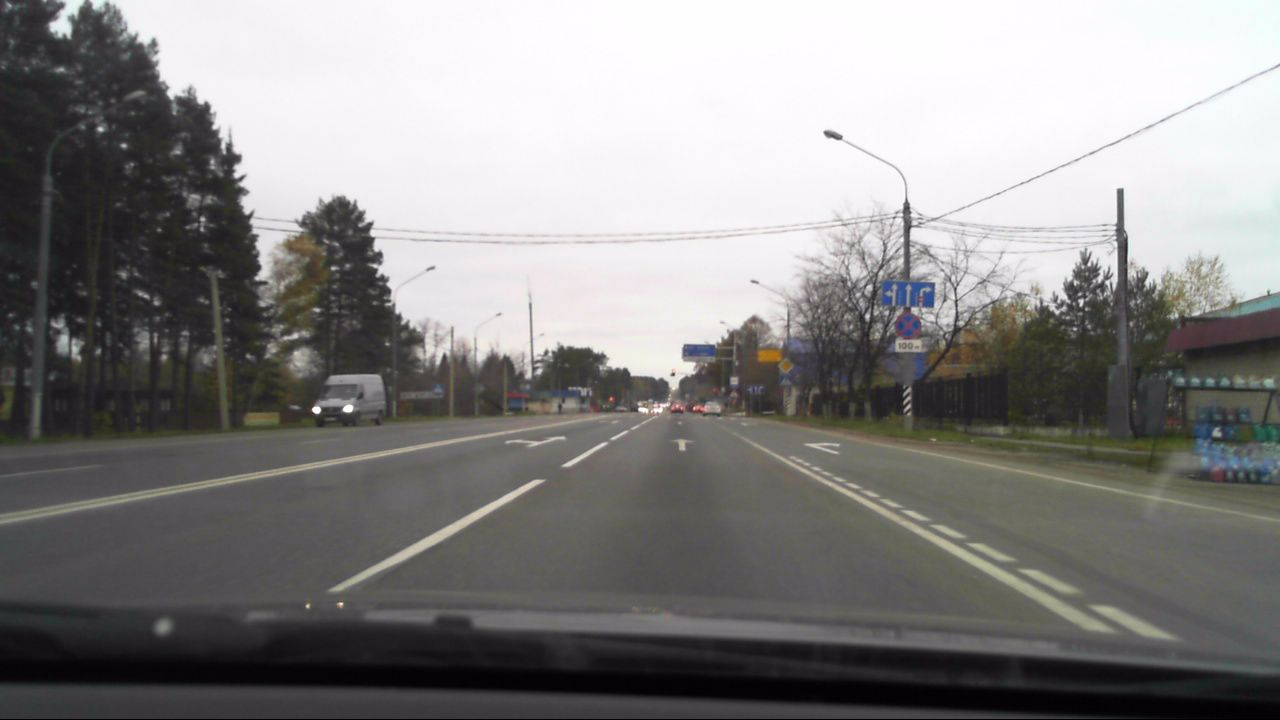No Parking: (893, 313, 920, 338)
